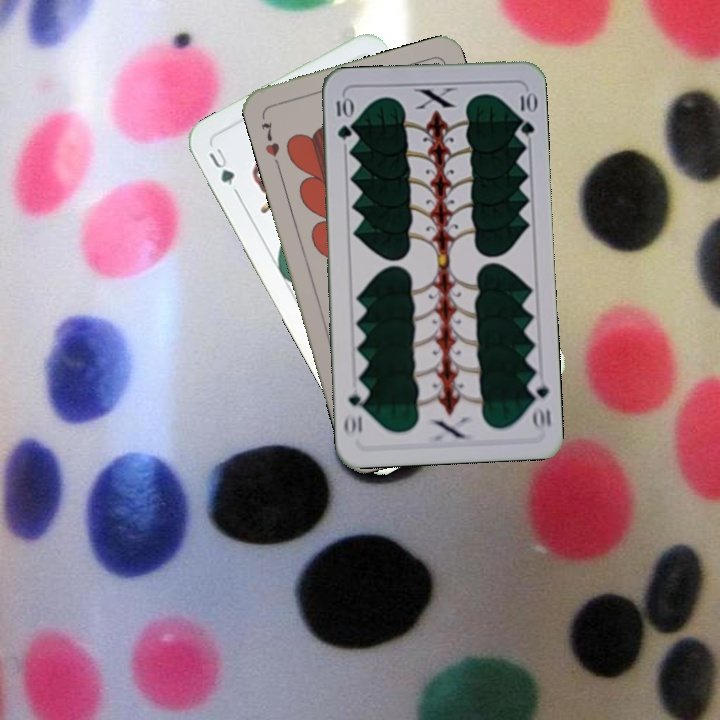G10: (525, 374, 554, 433), (332, 93, 354, 143)
GU: (204, 144, 237, 188)
H7: (257, 117, 283, 170)
